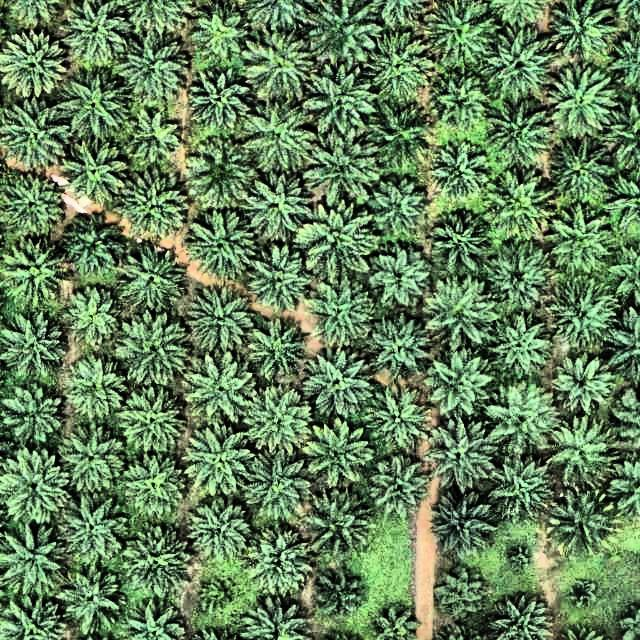Kelapa_Sawit: (298, 0, 381, 62), (366, 30, 436, 101), (485, 96, 555, 167), (485, 175, 555, 246), (546, 206, 616, 277), (548, 281, 618, 352), (244, 525, 314, 596), (185, 425, 255, 496), (120, 386, 190, 457), (546, 485, 616, 555), (59, 68, 129, 138), (60, 134, 130, 204), (116, 35, 186, 105), (119, 171, 189, 241), (186, 137, 256, 207), (187, 208, 257, 278), (244, 30, 314, 100), (245, 100, 315, 170), (244, 167, 314, 237), (304, 67, 374, 137), (305, 134, 375, 204), (301, 205, 371, 275), (365, 101, 435, 171), (485, 29, 555, 99), (483, 242, 553, 312), (544, 67, 614, 137), (545, 135, 615, 205), (545, 417, 615, 487), (483, 383, 553, 453), (485, 450, 555, 520), (422, 276, 492, 346), (425, 350, 495, 420), (425, 420, 495, 490), (427, 492, 497, 562), (362, 380, 432, 450), (305, 279, 375, 349), (303, 348, 373, 418), (306, 418, 376, 488), (305, 485, 375, 555), (246, 244, 316, 314), (247, 387, 317, 457), (243, 447, 313, 517), (185, 284, 255, 354), (187, 357, 257, 427), (117, 244, 187, 314), (120, 315, 190, 385), (121, 527, 191, 597), (58, 425, 128, 495), (61, 494, 131, 564), (57, 562, 127, 632), (426, 0, 498, 66), (0, 96, 68, 164), (0, 28, 66, 96), (0, 448, 64, 518), (0, 521, 60, 594), (0, 308, 62, 376), (0, 232, 62, 299), (61, 213, 123, 276), (124, 109, 186, 172), (186, 67, 248, 130), (367, 174, 429, 237), (369, 249, 431, 312), (431, 213, 493, 276), (551, 353, 613, 416), (490, 316, 552, 379), (369, 314, 431, 377), (369, 456, 431, 519), (250, 318, 312, 381), (428, 142, 490, 204), (190, 498, 252, 560), (124, 455, 186, 517), (62, 287, 124, 349), (65, 359, 127, 421), (4, 386, 66, 448), (59, 0, 125, 58), (547, 1, 608, 62), (1, 173, 62, 232), (193, 0, 249, 56), (432, 78, 487, 133), (238, 595, 306, 639), (435, 568, 489, 623), (494, 591, 549, 640), (2, 597, 63, 640), (121, 597, 182, 640), (316, 570, 362, 617), (374, 601, 419, 639), (201, 573, 239, 612), (507, 542, 538, 573), (566, 577, 597, 608)
